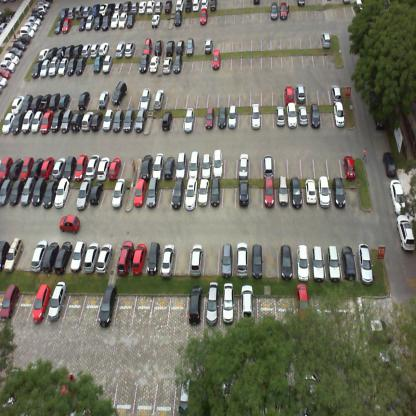car: (365, 316, 394, 345), (28, 288, 51, 324), (46, 290, 69, 326), (96, 288, 118, 324), (3, 237, 24, 273), (58, 371, 77, 410), (354, 240, 374, 277), (294, 281, 310, 326), (145, 240, 165, 275), (324, 242, 342, 280), (202, 293, 221, 329), (396, 215, 414, 253), (388, 177, 406, 215), (303, 370, 318, 415), (1, 283, 19, 320), (41, 239, 60, 273), (68, 240, 87, 274), (76, 176, 94, 210), (144, 177, 162, 211), (293, 243, 311, 277), (53, 241, 72, 273), (187, 292, 204, 327), (82, 240, 100, 273), (340, 241, 356, 278), (88, 174, 105, 208), (278, 244, 295, 278), (310, 242, 326, 278), (30, 238, 46, 274), (53, 177, 71, 209), (222, 281, 235, 325), (160, 241, 177, 274), (170, 176, 186, 210), (188, 242, 204, 276), (234, 241, 249, 277), (113, 177, 129, 210), (132, 240, 148, 273), (217, 242, 233, 275), (177, 377, 192, 412), (240, 282, 253, 322), (96, 244, 113, 274), (248, 240, 263, 274), (316, 177, 332, 208), (118, 242, 134, 272), (133, 177, 146, 212), (73, 154, 91, 179), (382, 149, 397, 179), (42, 178, 57, 208), (341, 149, 357, 177), (84, 153, 101, 179), (58, 214, 80, 234), (330, 179, 345, 208), (197, 179, 211, 210), (20, 177, 34, 208), (288, 180, 304, 207), (122, 106, 137, 134), (235, 179, 249, 209), (262, 178, 276, 208), (276, 179, 290, 209), (30, 178, 45, 206), (90, 106, 106, 132), (96, 154, 112, 180), (209, 180, 223, 209), (304, 178, 317, 209), (101, 107, 115, 135), (112, 107, 126, 135), (332, 101, 347, 127), (186, 152, 201, 178), (109, 155, 125, 179), (38, 109, 52, 136), (9, 179, 22, 208), (184, 179, 196, 210), (111, 81, 127, 104), (133, 108, 147, 134), (149, 154, 163, 180), (138, 155, 153, 179), (263, 147, 275, 177), (164, 152, 178, 177), (199, 152, 213, 177), (210, 152, 224, 177), (21, 109, 34, 135), (174, 153, 188, 177), (62, 155, 76, 179), (0, 179, 12, 206), (70, 111, 84, 134), (20, 156, 34, 179), (0, 240, 10, 272), (162, 107, 174, 132), (237, 152, 249, 177), (2, 111, 14, 136), (60, 110, 73, 133), (30, 111, 43, 134), (82, 108, 94, 132), (311, 102, 322, 128), (9, 157, 22, 179), (41, 156, 54, 178), (52, 156, 65, 178), (20, 92, 33, 114), (274, 105, 286, 128), (298, 105, 310, 128), (30, 157, 43, 178), (100, 54, 113, 75), (184, 106, 194, 133), (216, 107, 227, 131), (295, 80, 306, 104), (50, 111, 62, 133), (11, 113, 24, 133), (1, 156, 12, 179), (75, 56, 87, 77), (252, 105, 262, 130), (38, 92, 51, 111), (205, 108, 216, 130), (228, 106, 239, 128), (147, 54, 159, 74), (48, 92, 61, 110), (30, 94, 43, 112), (286, 105, 297, 126), (320, 30, 331, 51), (140, 86, 151, 107), (138, 53, 149, 74), (211, 48, 221, 71), (57, 93, 70, 110), (331, 84, 342, 104), (98, 89, 109, 109), (162, 56, 173, 76), (57, 57, 68, 77), (48, 57, 59, 77), (78, 91, 90, 109), (12, 95, 24, 113), (39, 59, 51, 77), (124, 42, 135, 61), (109, 11, 120, 30), (66, 58, 78, 75), (30, 61, 42, 78), (284, 84, 294, 104), (154, 89, 164, 109), (118, 10, 128, 30), (89, 42, 100, 60), (61, 17, 72, 35), (93, 55, 103, 74), (173, 54, 182, 74), (115, 40, 125, 58), (198, 8, 208, 26), (150, 12, 160, 30), (20, 24, 35, 36), (203, 36, 213, 53), (92, 13, 102, 30), (280, 1, 288, 22), (98, 41, 110, 55), (1, 60, 16, 71), (81, 42, 92, 57), (353, 0, 364, 15), (143, 37, 152, 55), (126, 11, 135, 29), (84, 13, 93, 31), (9, 46, 23, 57), (173, 9, 182, 26), (186, 38, 194, 57), (64, 44, 74, 59), (163, 0, 173, 15), (176, 38, 185, 54), (166, 40, 175, 56), (154, 39, 163, 55), (32, 8, 44, 20), (38, 48, 49, 61), (271, 1, 278, 21), (76, 18, 86, 32), (90, 2, 100, 16), (72, 44, 82, 58), (102, 14, 110, 31), (54, 18, 62, 35), (5, 54, 20, 63), (146, 0, 155, 15), (14, 39, 26, 50), (26, 20, 38, 31), (18, 34, 31, 44), (56, 45, 66, 58), (137, 0, 146, 14), (184, 0, 193, 14), (48, 47, 58, 59), (122, 0, 132, 12), (113, 1, 122, 14), (0, 66, 11, 76), (37, 3, 47, 14), (38, 0, 50, 9), (191, 0, 200, 12), (100, 2, 108, 15), (68, 4, 76, 16), (82, 5, 90, 17), (107, 3, 115, 15), (29, 16, 41, 24), (155, 0, 163, 12), (176, 0, 184, 12), (209, 0, 217, 12), (60, 6, 68, 17), (76, 4, 82, 18), (0, 75, 7, 87), (132, 0, 139, 12), (200, 0, 208, 10)
